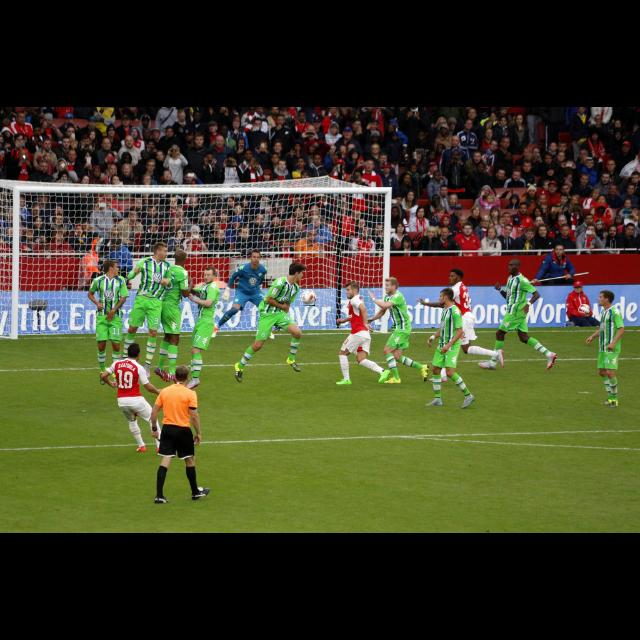Football: (301, 290, 315, 306)
